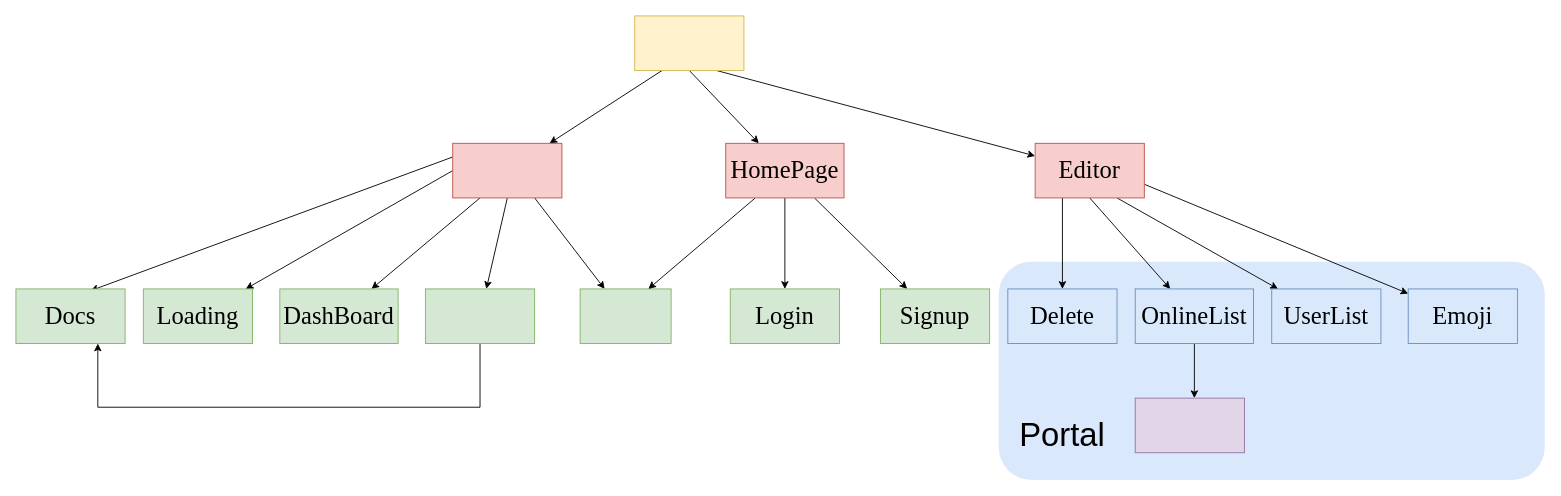
Some shapes in this 1561 by 496 pixel diagram are drawn without their labels. Here are the shapes that lost their labels. From the top down, the centre of each, then its label:
At point (689, 43): "App".
At point (507, 170): "Console".
At point (480, 316): "UserPage".
At point (625, 316): "Nav".
At point (1189, 425): "UserCard".
